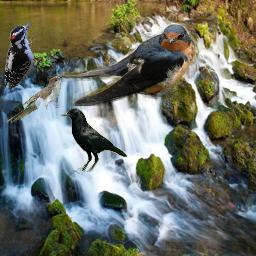Crow: (60, 108, 127, 172)
Cuckoo: (6, 75, 66, 123)
Swallow: (47, 23, 196, 106)
Woodpecker: (5, 21, 42, 90)
